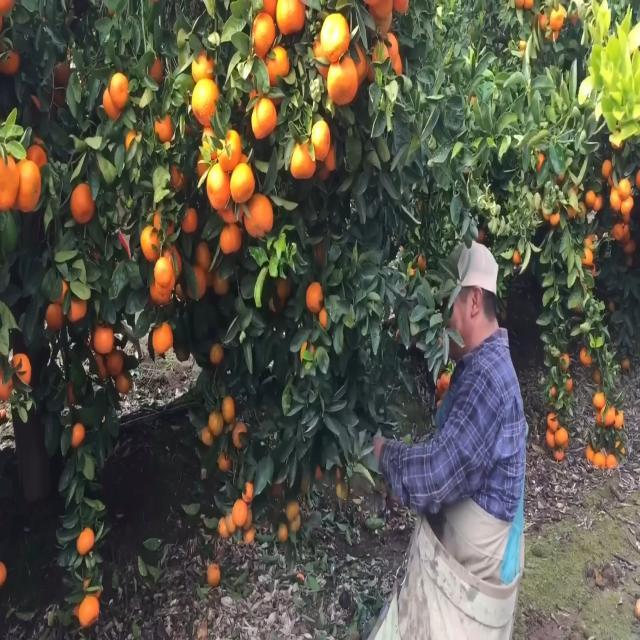Jeruk Sudah Matang: (324, 52, 364, 112), (0, 143, 25, 221), (240, 195, 279, 242), (204, 156, 234, 217), (15, 152, 42, 218), (319, 12, 353, 64), (190, 73, 220, 130), (248, 90, 280, 142), (287, 135, 321, 183), (271, 0, 310, 39), (214, 126, 244, 175), (308, 113, 336, 163), (248, 8, 276, 58), (69, 181, 98, 227), (229, 164, 257, 207), (108, 67, 132, 116), (76, 588, 104, 628), (138, 218, 164, 260), (90, 316, 116, 356), (216, 220, 244, 256), (148, 318, 172, 356), (153, 252, 176, 290), (306, 274, 324, 318), (76, 524, 95, 556), (206, 406, 224, 438), (222, 392, 237, 428), (205, 345, 227, 367), (616, 176, 632, 204), (71, 421, 86, 448), (554, 426, 570, 446)
